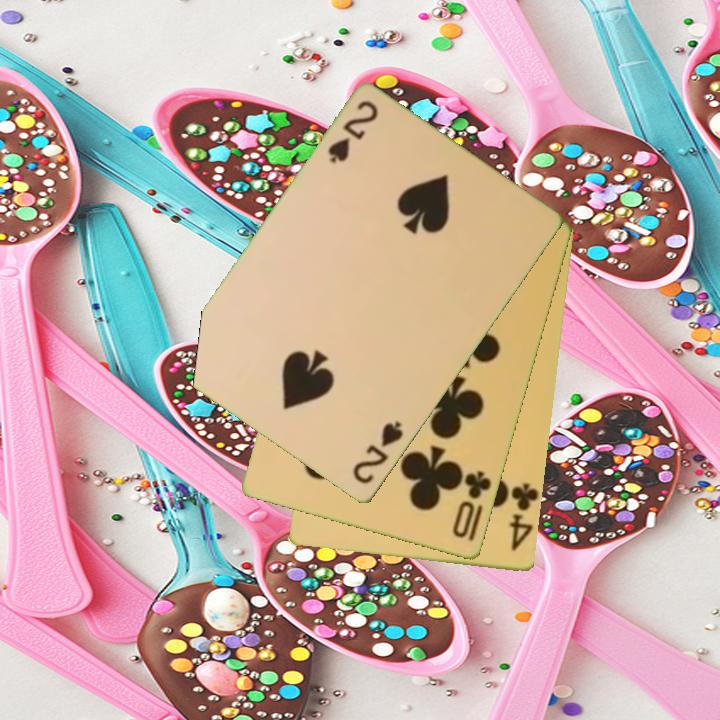10c: (449, 467, 495, 542)
2s: (349, 418, 407, 488), (324, 97, 381, 167)
4c: (506, 480, 540, 555)
